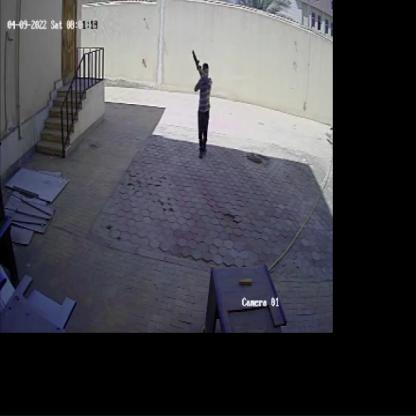handgun: (190, 45, 204, 79)
